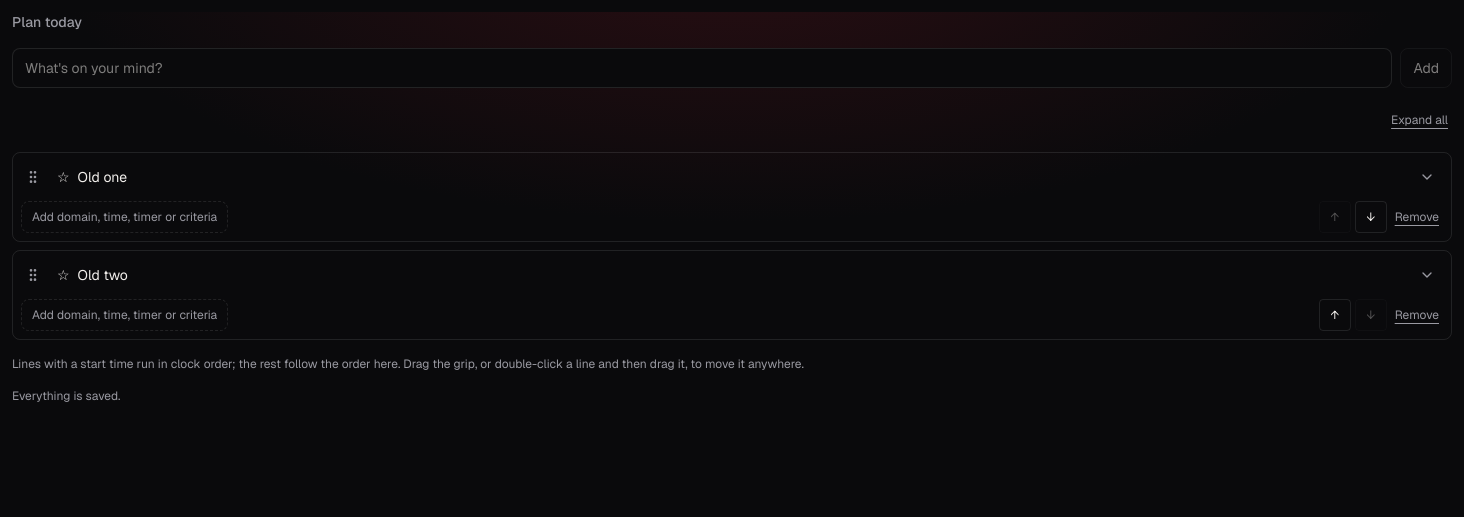
Scenario: ClosePlanStage — Add (PERF-4) › a new line goes on TOP of the list (its domain/time/timer are set next, so it must not sit below the fold), and is first in the saved order
The width and height of the screenshot is (1464, 517).
In the field named "Dump a line": (702, 68) [12,48,1392,88], type "Fresh task"
Then press Enter
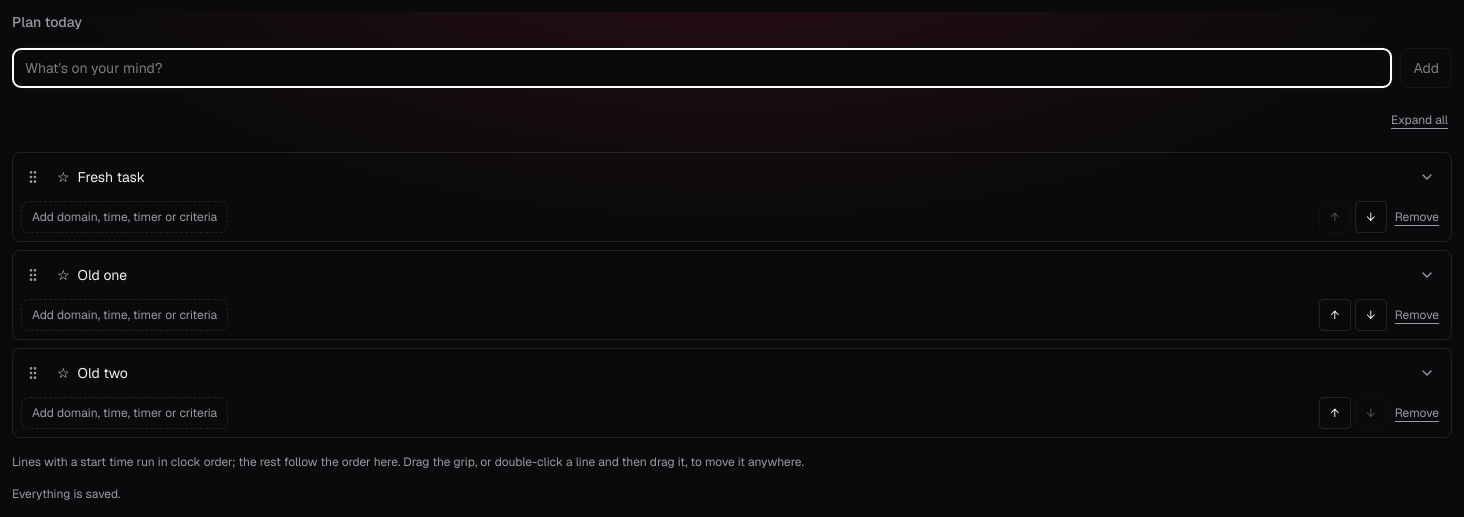
Check: the text "Fresh task" is shown, box [78,168,145,186]
